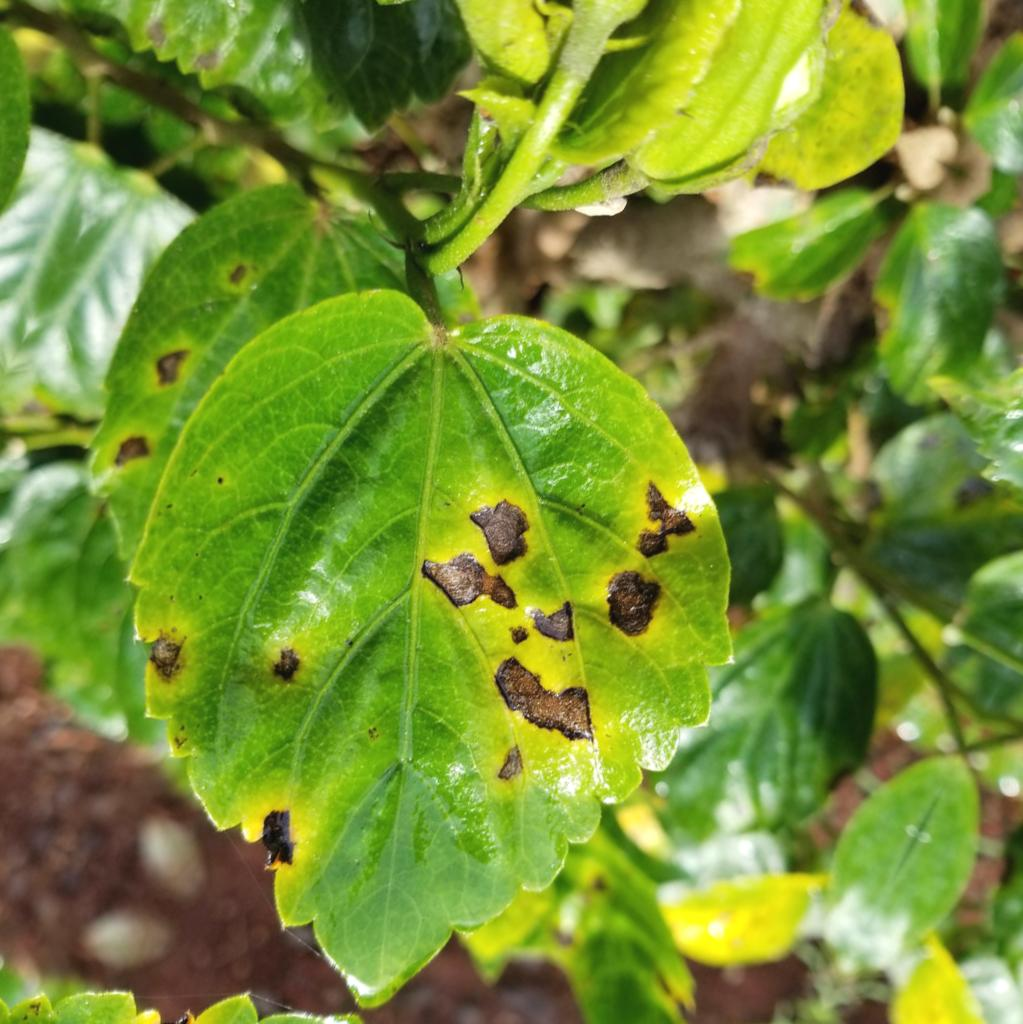Tomato leaf bacterial spot: (2, 197, 855, 1024)
